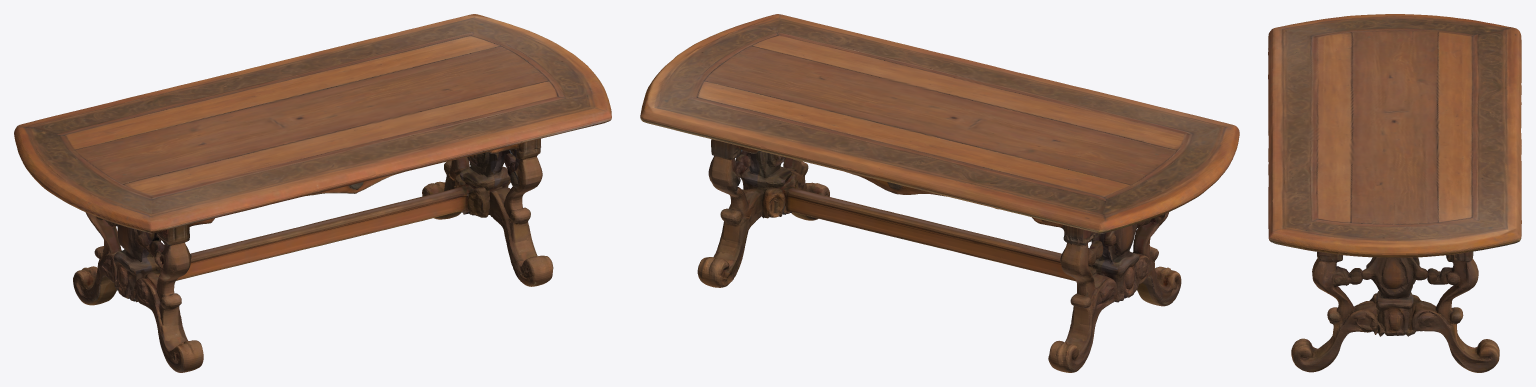
File: Mesa_larga_Antigua__0404130018_texture.fbx
3 views of the same model, side by side, from view 1: azimuth 30°, elevation 25°; view 2: azimuth 150°, elevation 25°; view 3: azimuth 270°, elevation 25° (orthographic). The views are drawn at different scales.
Visible parts, largest first — view 1: temp; view 2: temp; view 3: temp.
Part boxes in pixels (x1,y1,x2,y2): temp: (14,14,611,372); temp: (640,14,1239,372); temp: (1268,14,1521,372).
Bounding box in the file's own units: 200 × 64.67 × 90.61.
Materials: 1 (1 with a texture image).
